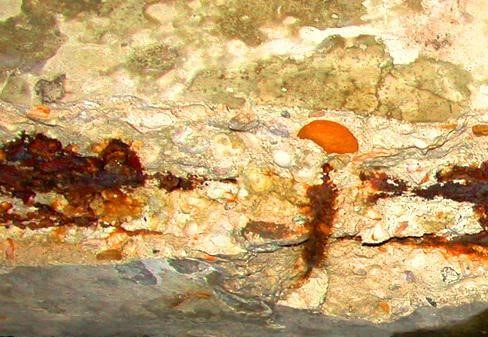Corrosion: (1, 131, 238, 236), (359, 160, 488, 204), (301, 162, 339, 280), (388, 230, 488, 256), (473, 205, 488, 230)
